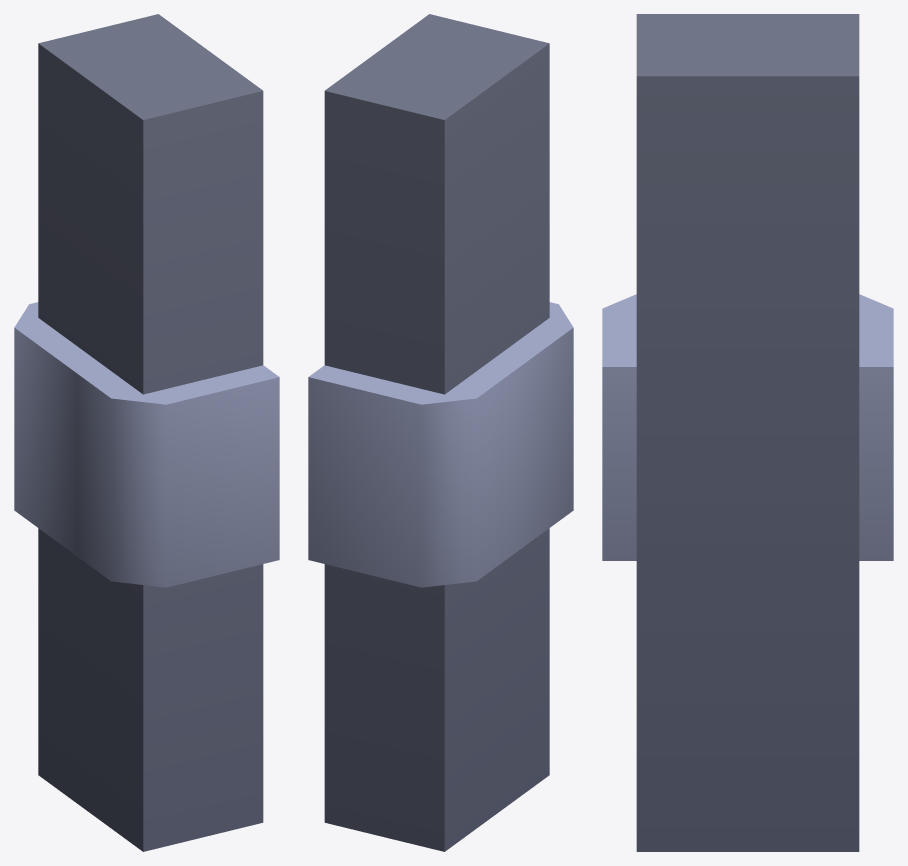
The model's file is town_chimney.glb.
The picture shows the model from 3 angles, left to right: view 1: azimuth 30°, elevation 25°; view 2: azimuth 150°, elevation 25°; view 3: azimuth 270°, elevation 25°; orthographic projection. The views are drawn at different scales.
Parts seen in each view (by area): view 1: chimney; view 2: chimney; view 3: chimney.
Boxes of the visible parts, left/top/right/bottom form: chimney: left=14, top=14, right=279, bottom=851; chimney: left=308, top=14, right=573, bottom=851; chimney: left=602, top=14, right=893, bottom=851.
Size of the model in its own units: 0.2119 by 1 by 0.34.
Materials: 1 (1 with a texture image).
